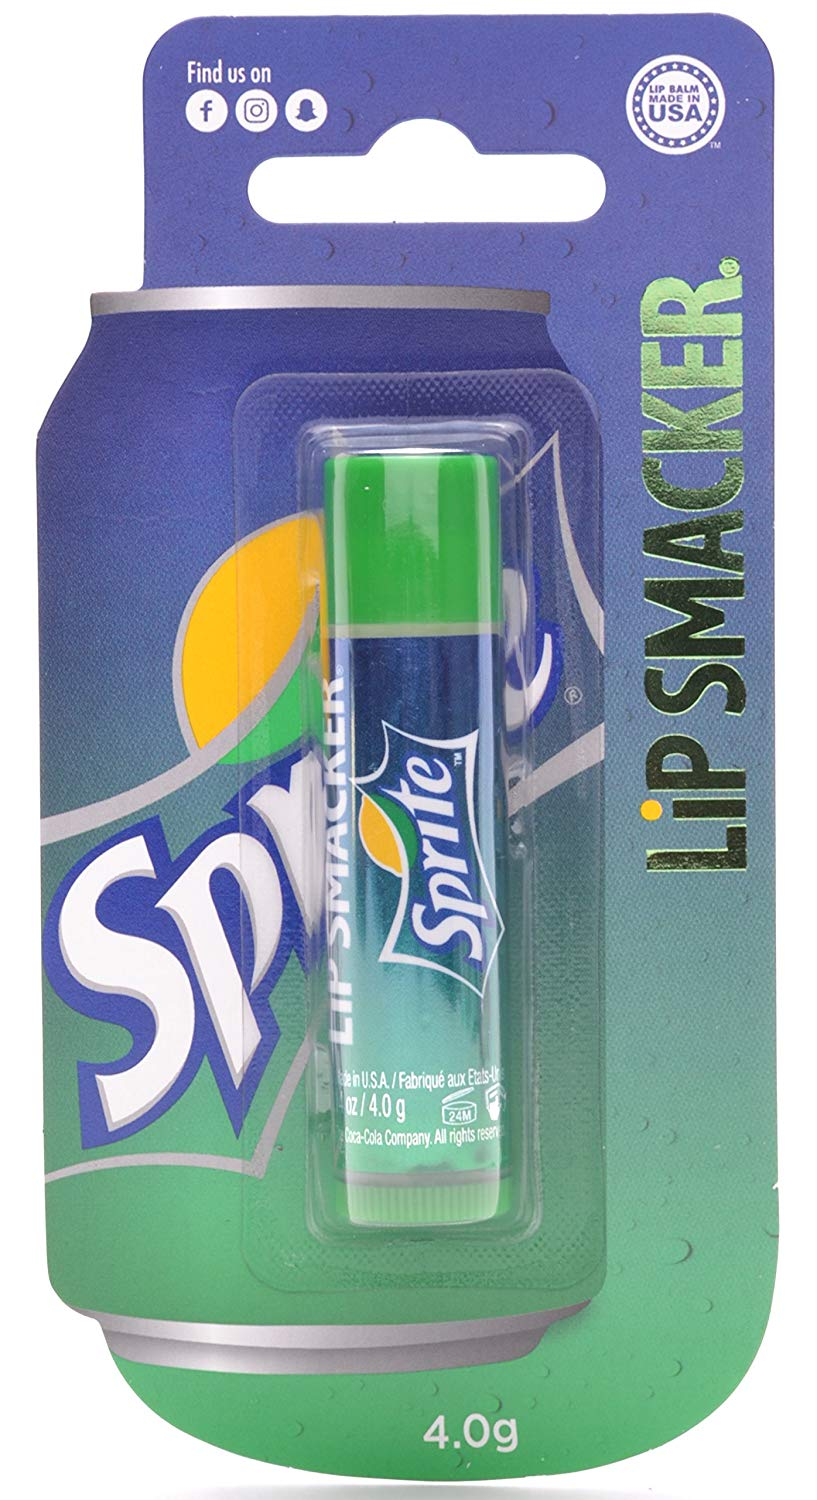sprite: (48, 751, 318, 1133), (389, 756, 487, 958)
